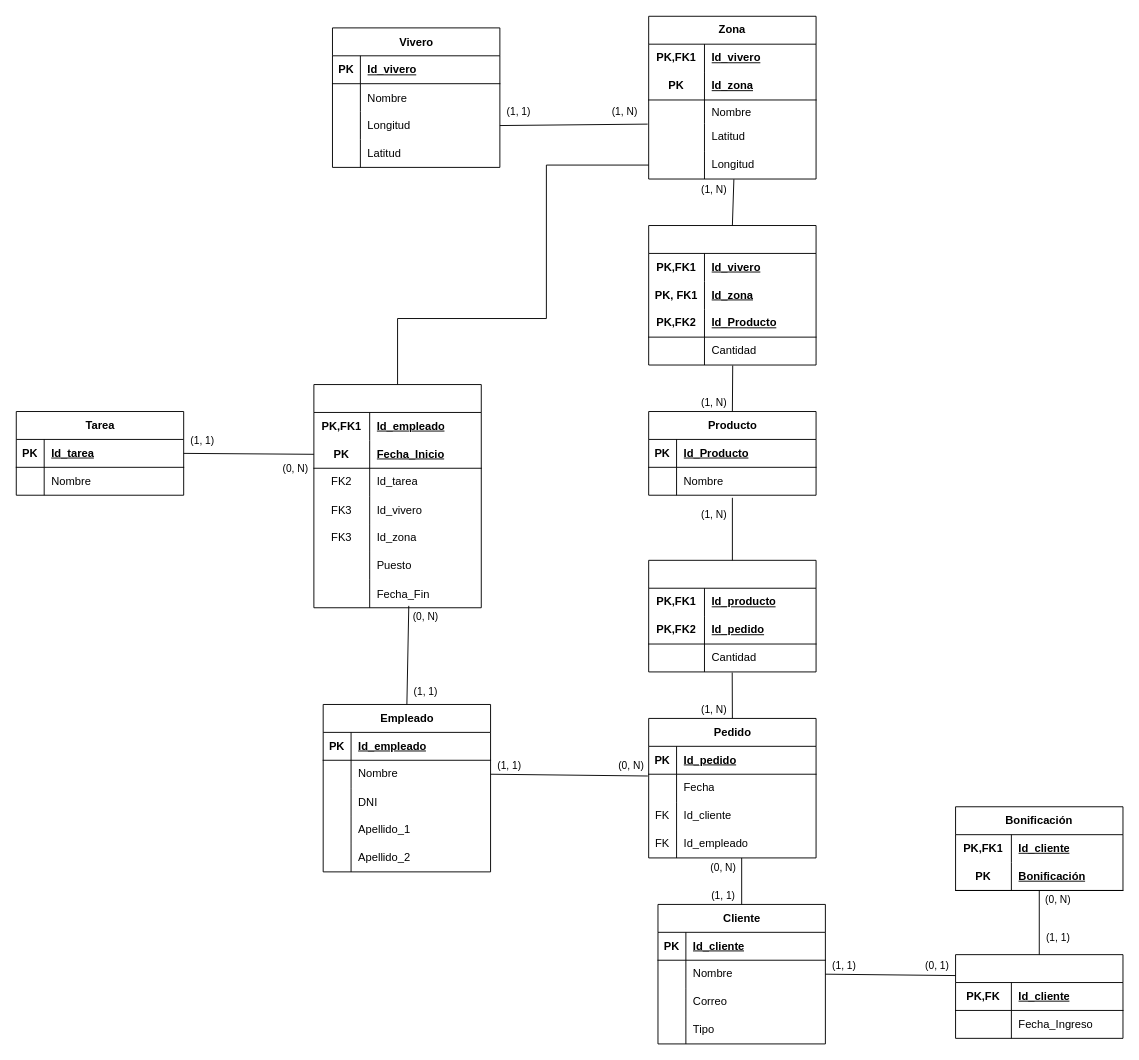
This 1139x1060 diagram has some shape labels left out. Here are the shapes that lost their labels. From the top down, the box of each, then its label:
(648, 225, 816, 365): Almacena
(313, 384, 481, 608): Realiza
(648, 559, 816, 672): Contiene
(955, 954, 1123, 1038): Afiliado
